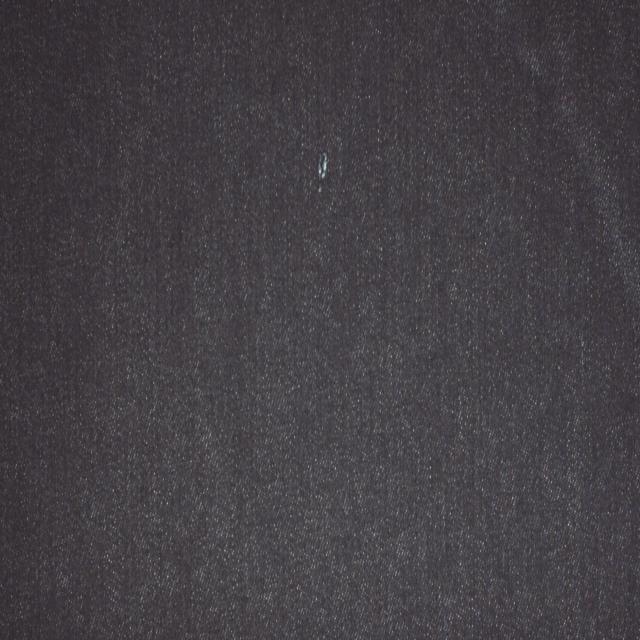Knot: (318, 151, 330, 192)
